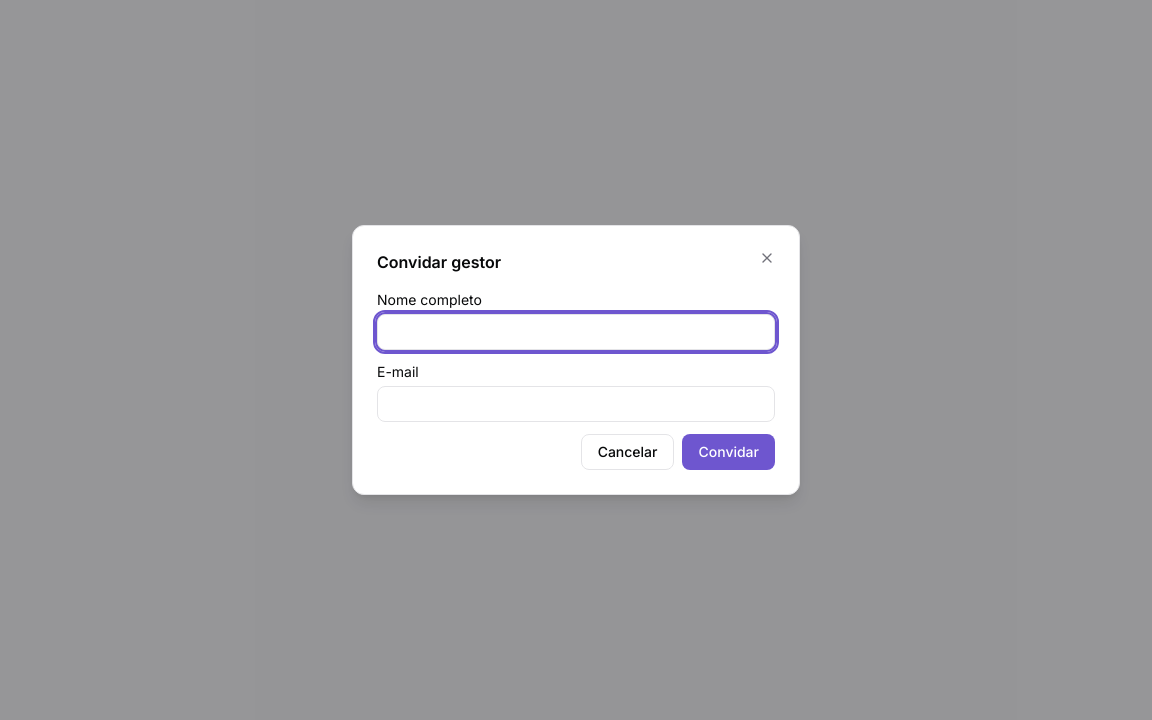
Test: InviteManagerDialog › shows a 502 message
Type "Ana" into the field labelled "Nome completo" at (576, 332), box left=377, top=314, right=775, bottom=350
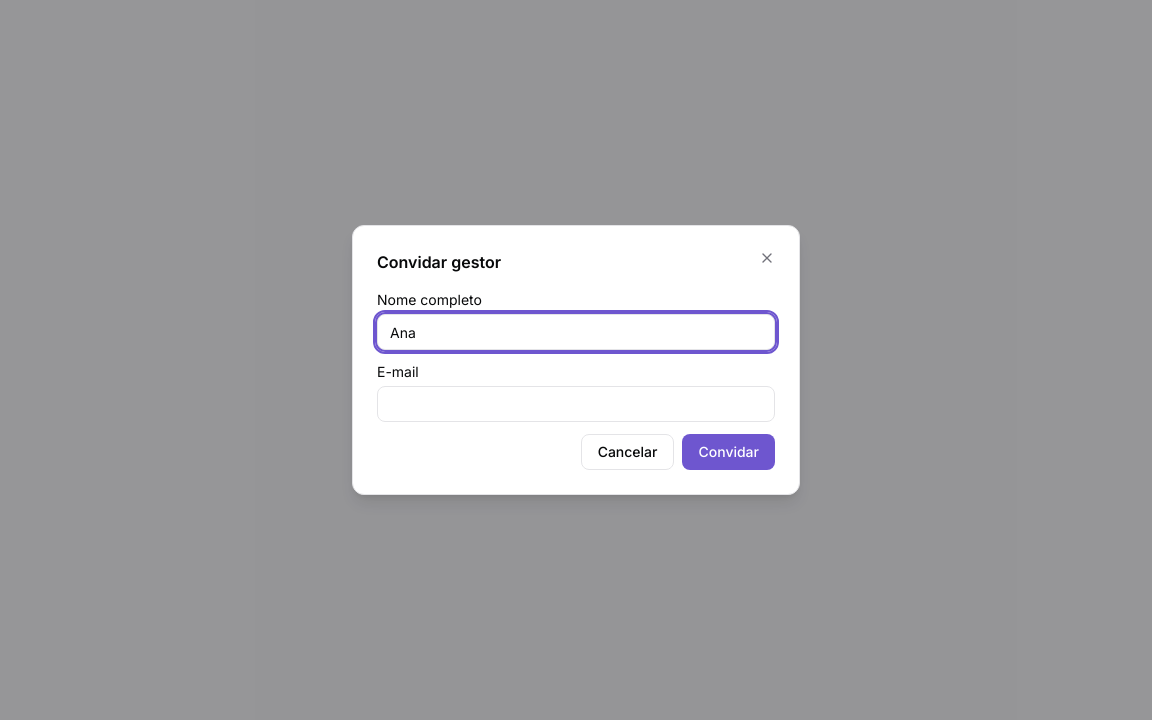
Type "ana@x.com" into the field labelled "E-mail" at (576, 404), box left=377, top=386, right=775, bottom=422
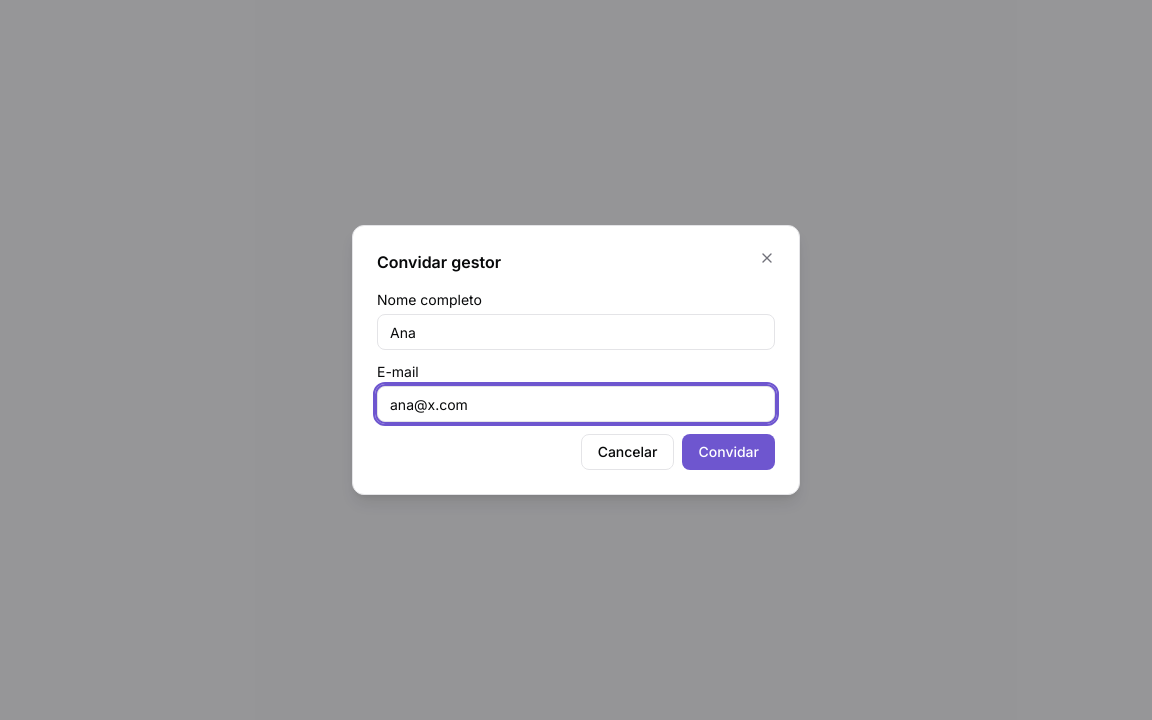
Click the button "Convidar" at (729, 452), box left=682, top=434, right=775, bottom=470
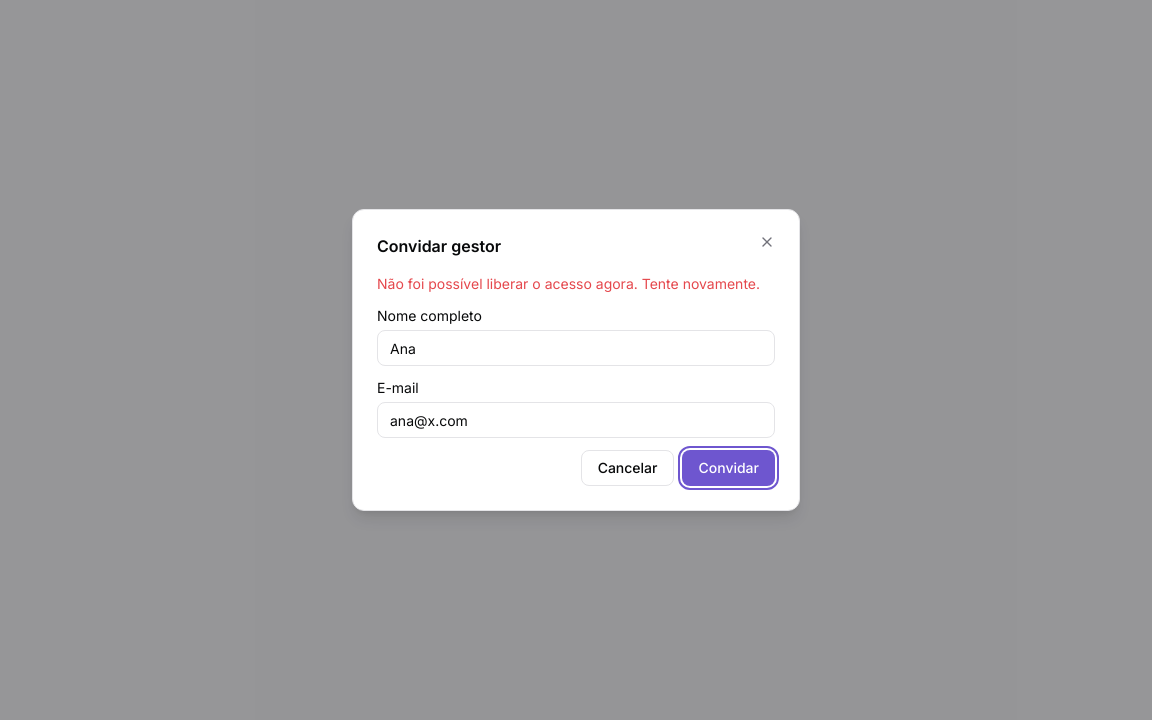
expect the message shows "Não foi possível liberar o acesso agora.": met, box left=377, top=275, right=760, bottom=292
